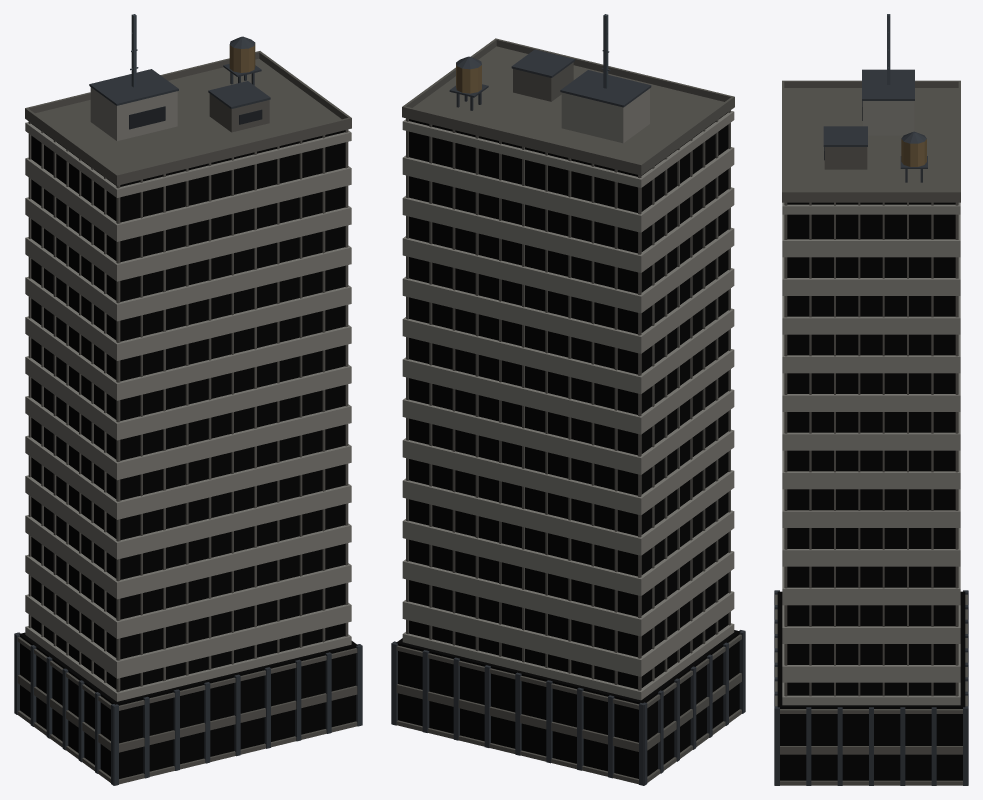
File: env_city_office.fbx
3 views of the same model, side by side, from view 1: azimuth 30°, elevation 25°; view 2: azimuth 150°, elevation 25°; view 3: azimuth 270°, elevation 25° (orthographic). The views are drawn at different scales.
Visible parts, largest first — view 1: env_city_office; view 2: env_city_office; view 3: env_city_office.
Boxes of the visible parts, x1,y1,x2,y2 form: env_city_office: (14, 14, 362, 785); env_city_office: (391, 14, 745, 785); env_city_office: (774, 14, 968, 785).
Size of the model in its own units: 6560 by 17850 by 4560.
